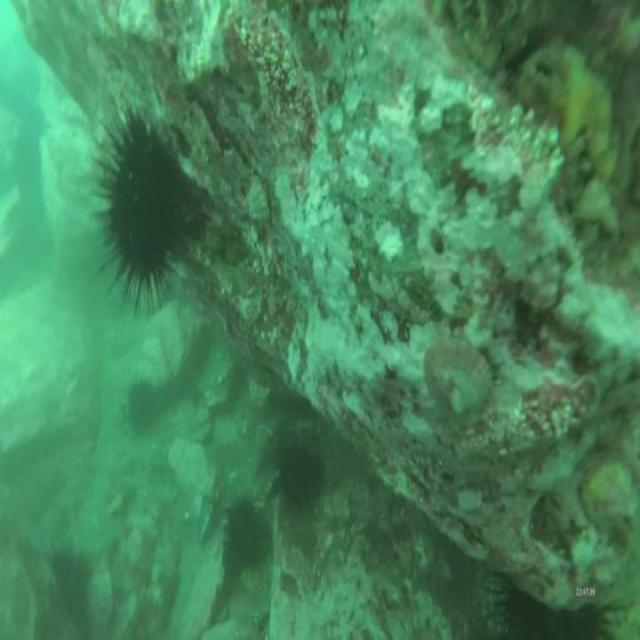echinus: (80, 112, 186, 319), (217, 488, 272, 586), (44, 542, 94, 627), (274, 441, 330, 512), (124, 374, 162, 442)
